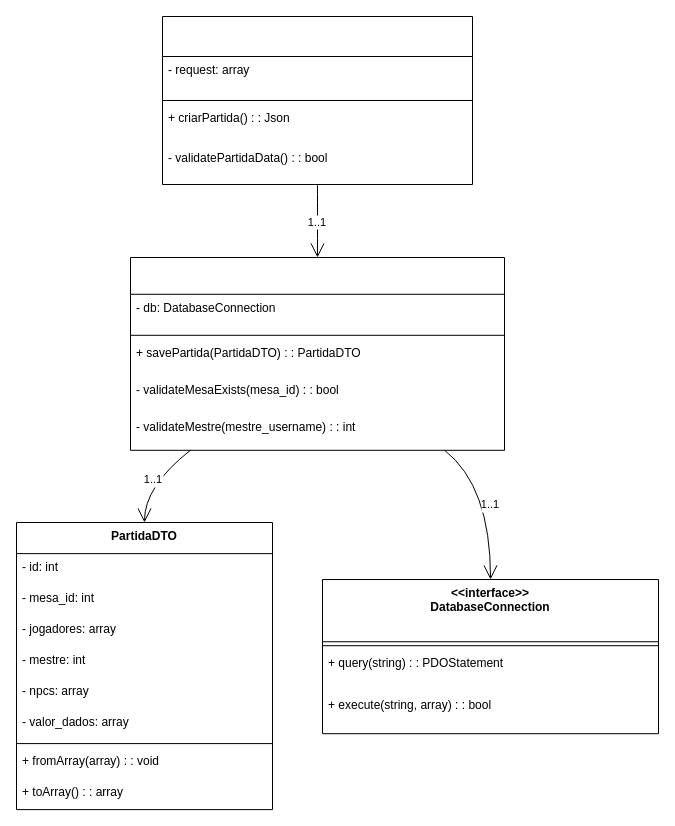
Some shapes in this 675 by 826 pixel diagram are drawn without their labels. Here are the shapes that lost their labels. From the top down, the box of each, then its label:
(162, 16, 472, 184): PartidaController
(130, 256, 504, 450): PartidaModel
